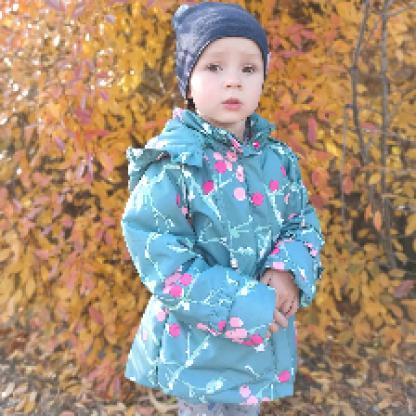child: (120, 1, 328, 415)
